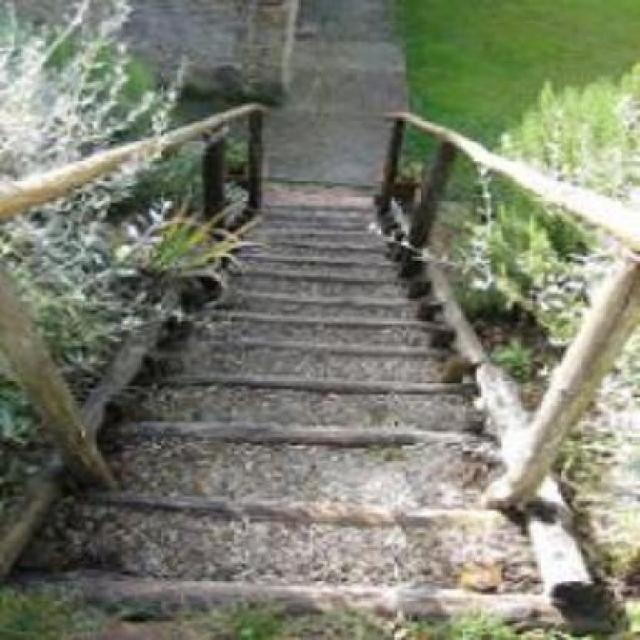stair: (84, 174, 510, 596)
